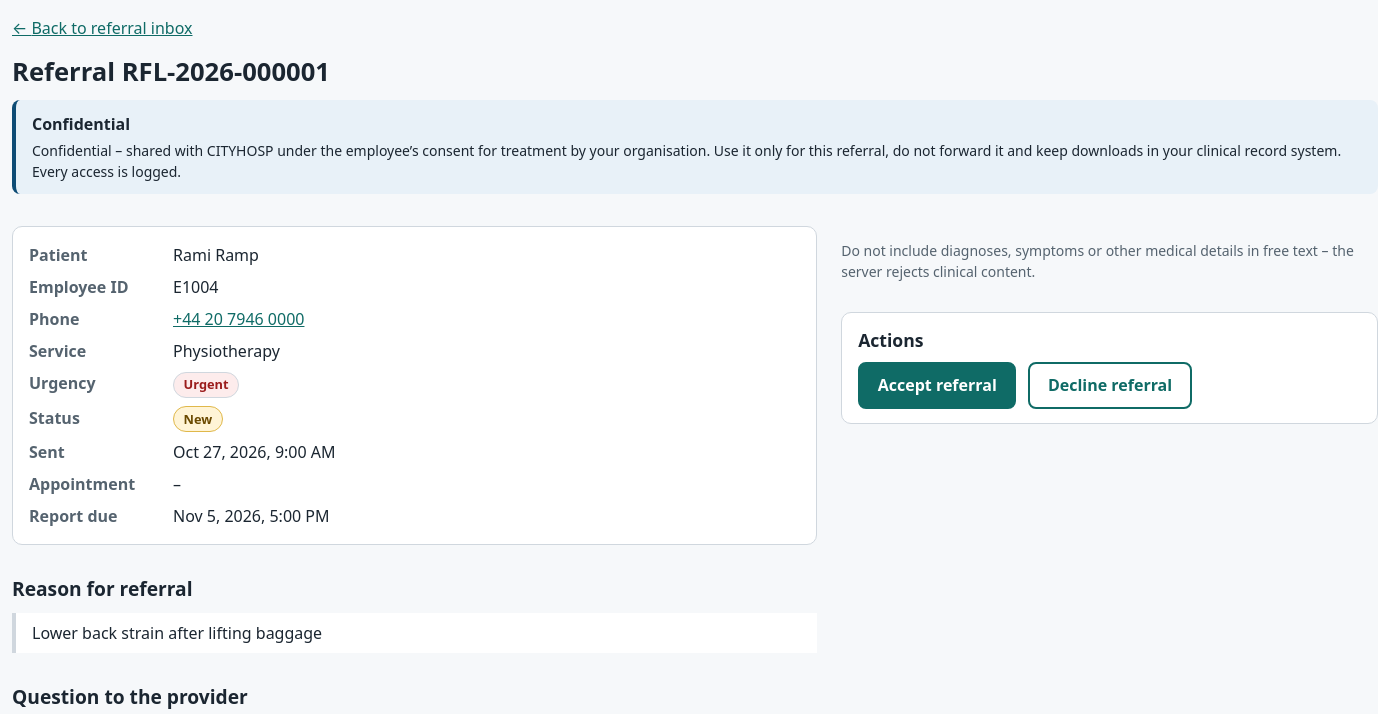
Test: referral detail › accepts a new referral
Click the button "Accept referral" at [937, 385], box [858,362,1016,409]
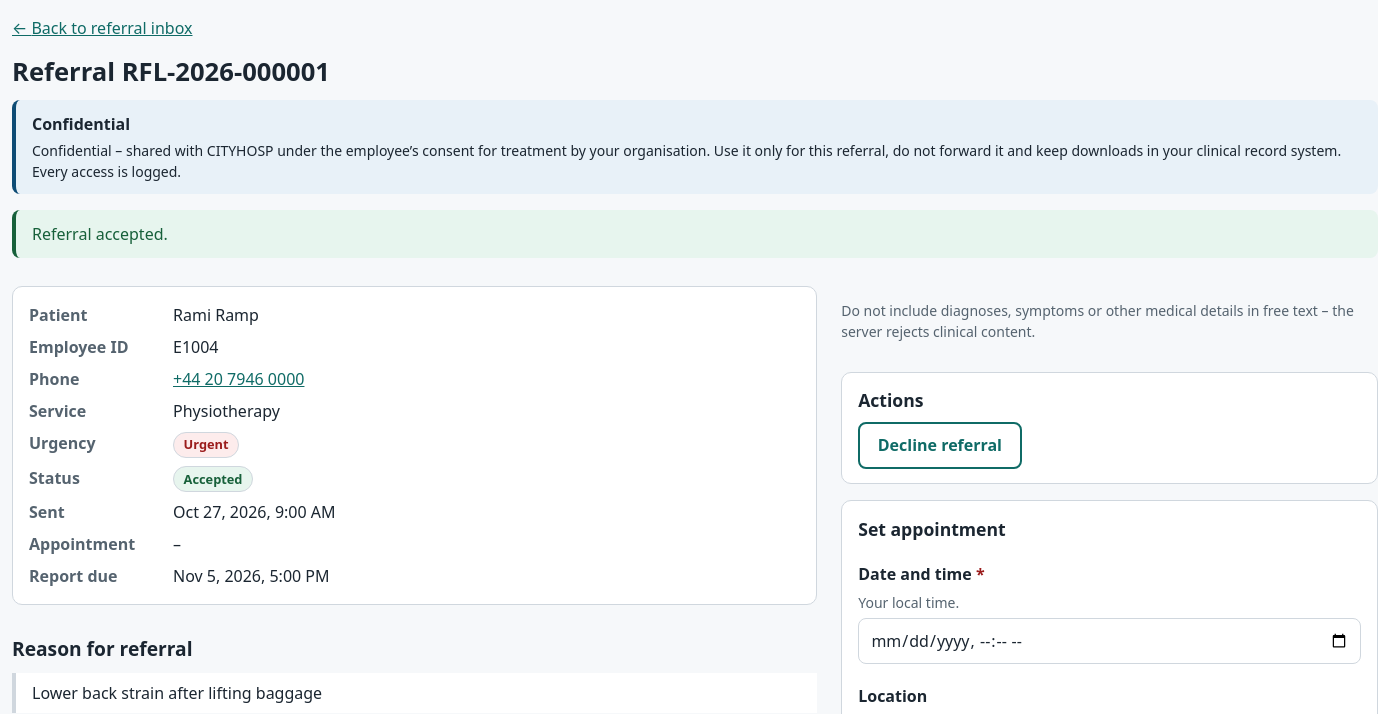
Check: the text "Referral accepted." is shown, box [12,210,1377,258]
Check: the heading "Set appointment" is shown, box [858,517,1006,541]
